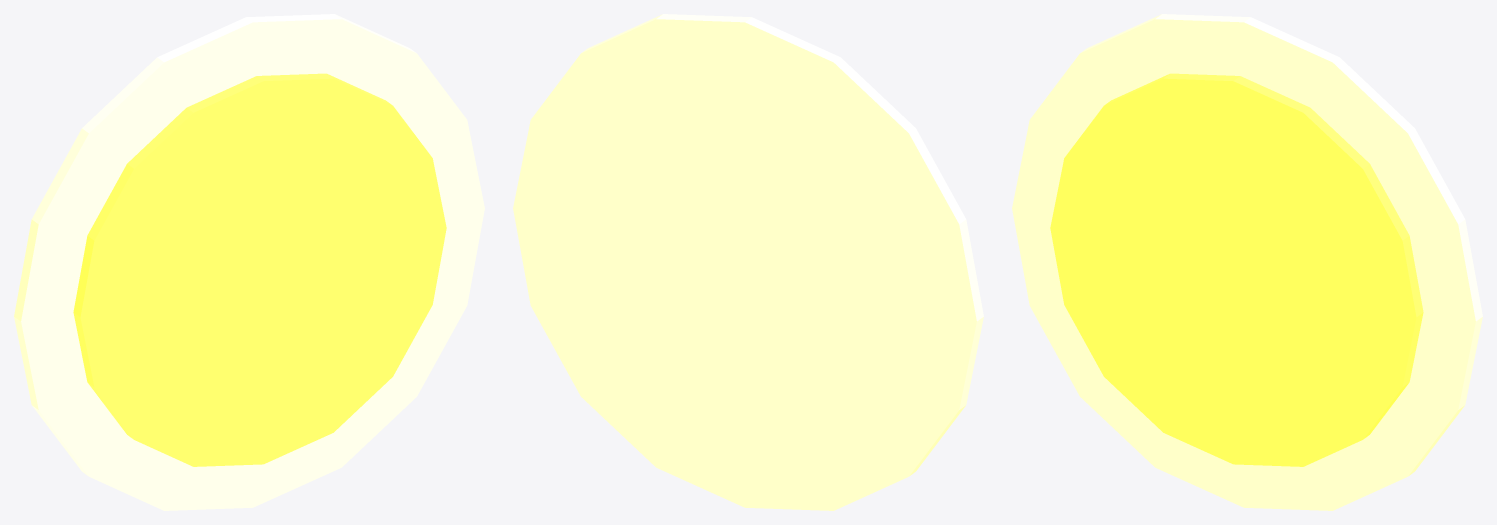
File: sun.glb
The picture shows the model from 3 angles, left to right: view 1: azimuth 30°, elevation 25°; view 2: azimuth 150°, elevation 25°; view 3: azimuth 330°, elevation 25°; orthographic projection.
Parts seen in each view (by area): view 1: Sun, Halo; view 2: Halo; view 3: Sun, Halo.
Part boxes in pixels (x1,y1,x2,y2): Sun: (73,73,446,466); Halo: (14,14,484,510); Halo: (513,14,983,510); Sun: (1050,73,1423,466); Halo: (1012,14,1482,510).
Size of the model in its own units: 3.8 by 3.8 by 0.25.
